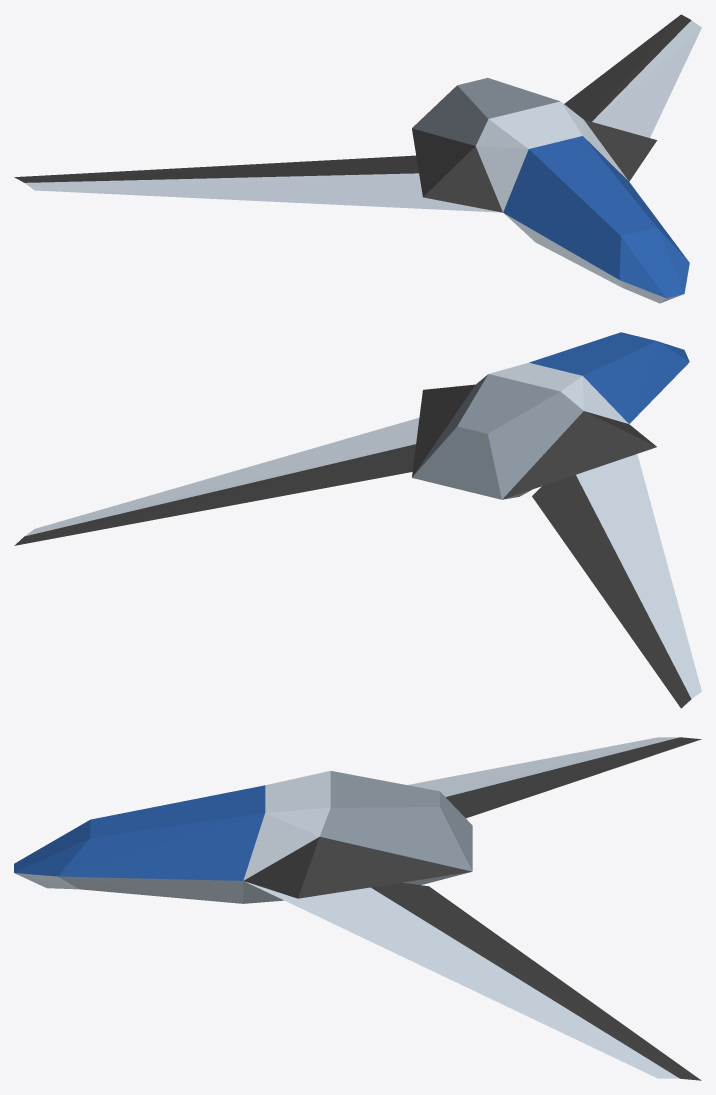
3 views of the same model, one above another, from view 1: azimuth 30°, elevation 25°; view 2: azimuth 150°, elevation 25°; view 3: azimuth 270°, elevation 25° (orthographic). The views are drawn at different scales.
Visible parts, largest first — view 1: VIFS001, VIFS004, VIFS002, VIFS003; view 2: VIFS002, VIFS001, VIFS003, VIFS004; view 3: VIFS001, VIFS002, VIFS004, VIFS003.
Boxes of the visible parts, box(x1,y1,x2,y2) form: VIFS001: box(25, 20, 701, 303); VIFS004: box(503, 136, 689, 298); VIFS002: box(14, 14, 691, 212); VIFS003: box(412, 78, 559, 145); VIFS002: box(14, 384, 691, 708); VIFS001: box(25, 362, 701, 698); VIFS003: box(412, 374, 583, 499); VIFS004: box(529, 332, 689, 423); VIFS001: box(14, 737, 679, 1078); VIFS002: box(244, 737, 701, 1080); VIFS004: box(14, 785, 265, 880); VIFS003: box(320, 771, 472, 871).
Size of the model in its own units: 1.48 by 0.244 by 1.26.
